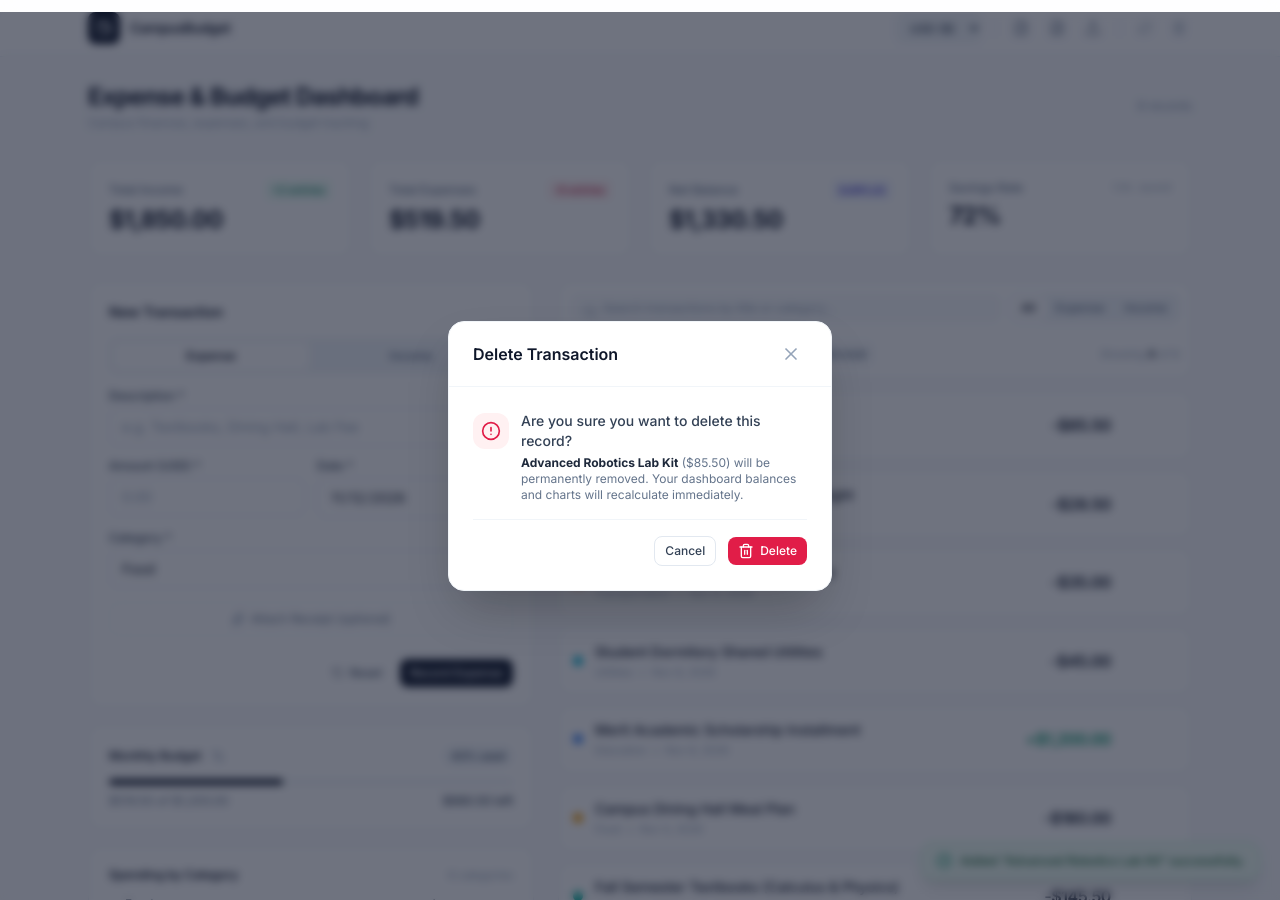
Test: App Full Integration Flow › renders initial dashboard, handles form validation, records new transaction, filters, and deletes
This screenshot has width=1280, height=900.
Earlier steps of the test are not shown.
Expected: the text "Are you sure you want to delete this record?" is shown, [521,412,761,449]
Click the button "Delete": [768, 551] box [728,537,807,565]
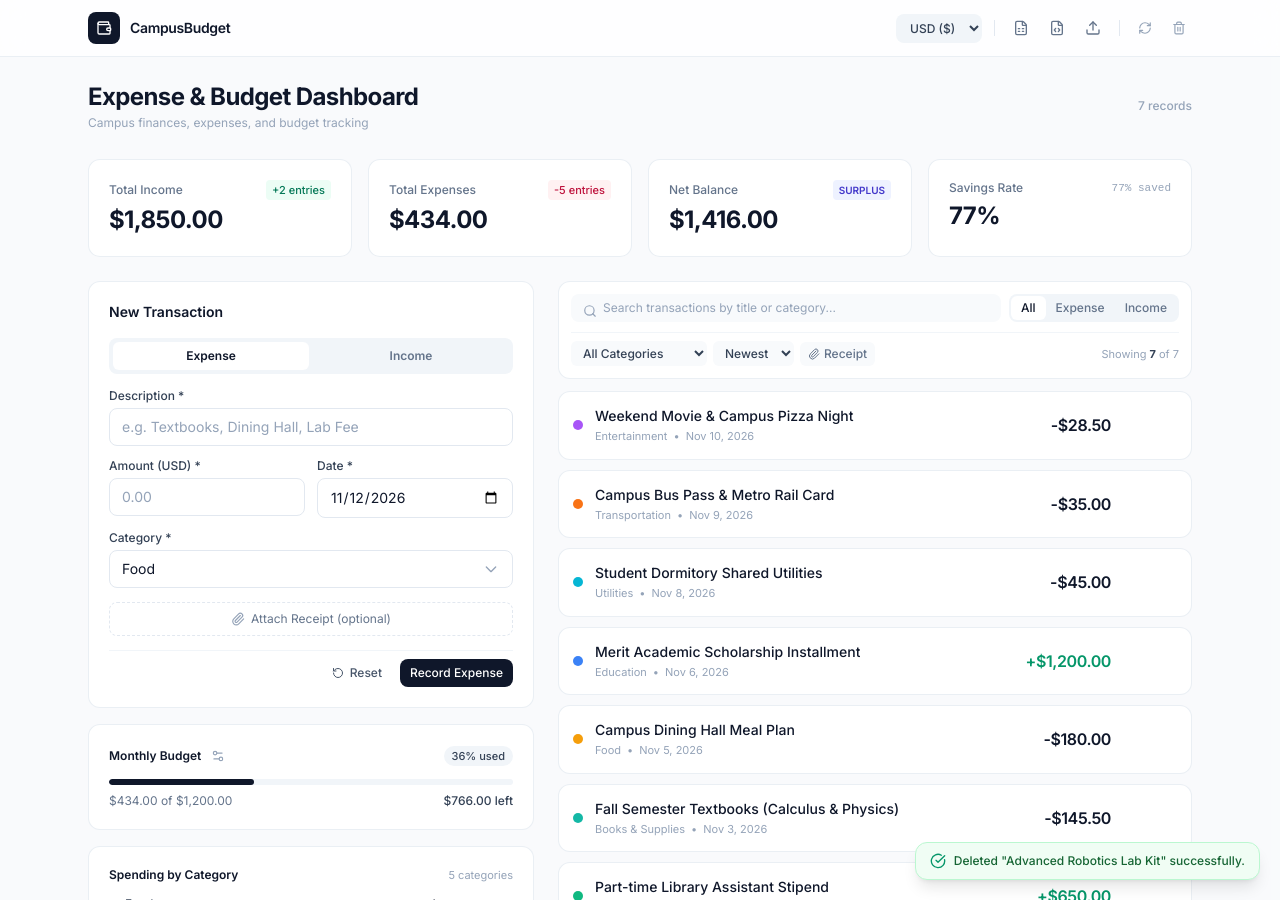
Expected: the text "Deleted \"Advanced Robotics Lab Kit\" successfully." is shown, [954,853,1245,869]
Expected: the text with test id "total-expenses" reads "$434.00", [389,205,487,234]
Expected: the text with test id "net-balance" reads "$1,416.00", [669,205,778,234]
Select "EUR (€)" in the 1st dropdown named "Currency": [939, 28] box [896,14,982,42]
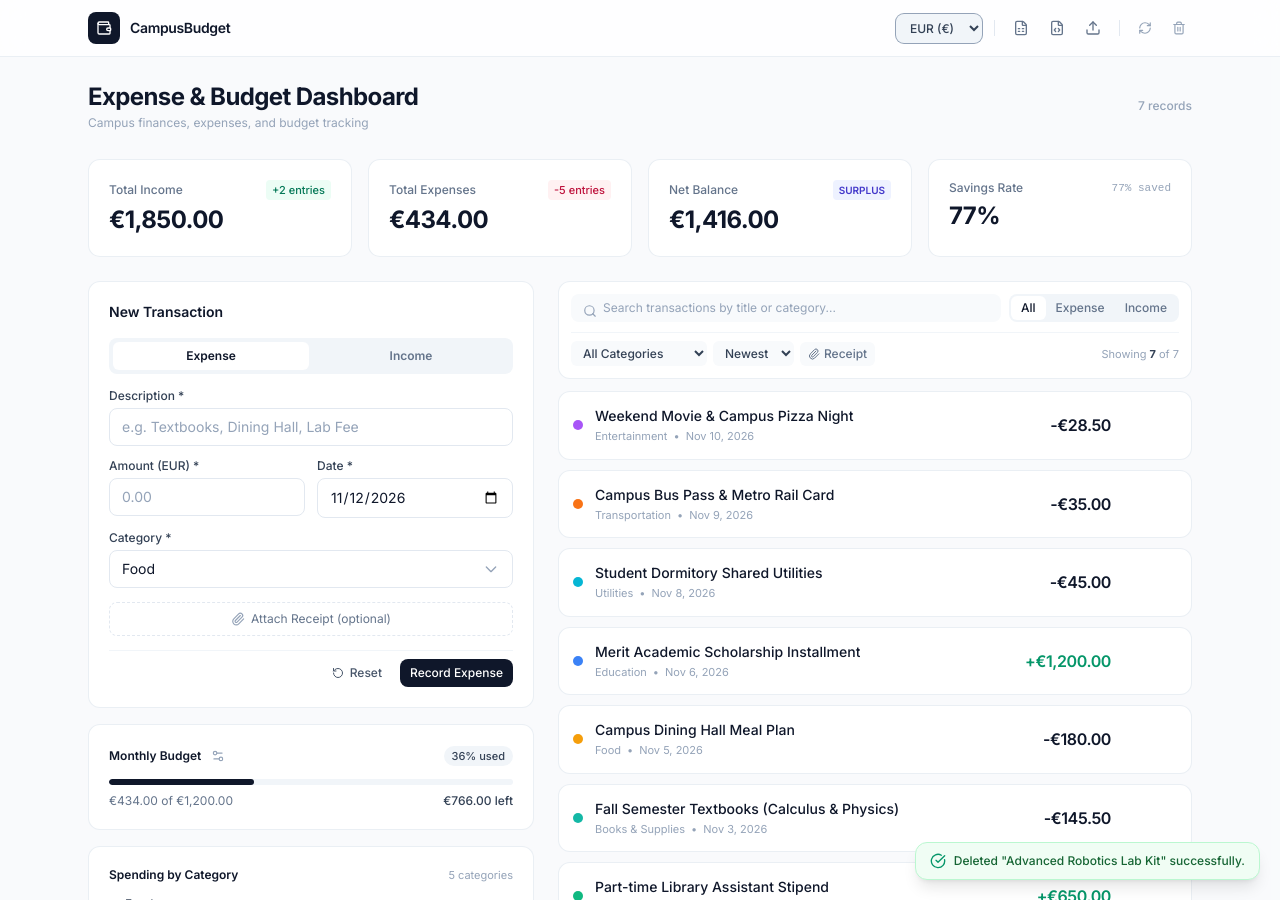
Expected: the text with test id "total-income" reads "€1,850.00", [109,205,223,234]
Expected: the text with test id "total-expenses" reads "€434.00", [389,205,488,234]
Expected: the text with test id "net-balance" reads "€1,416.00", [669,205,779,234]
